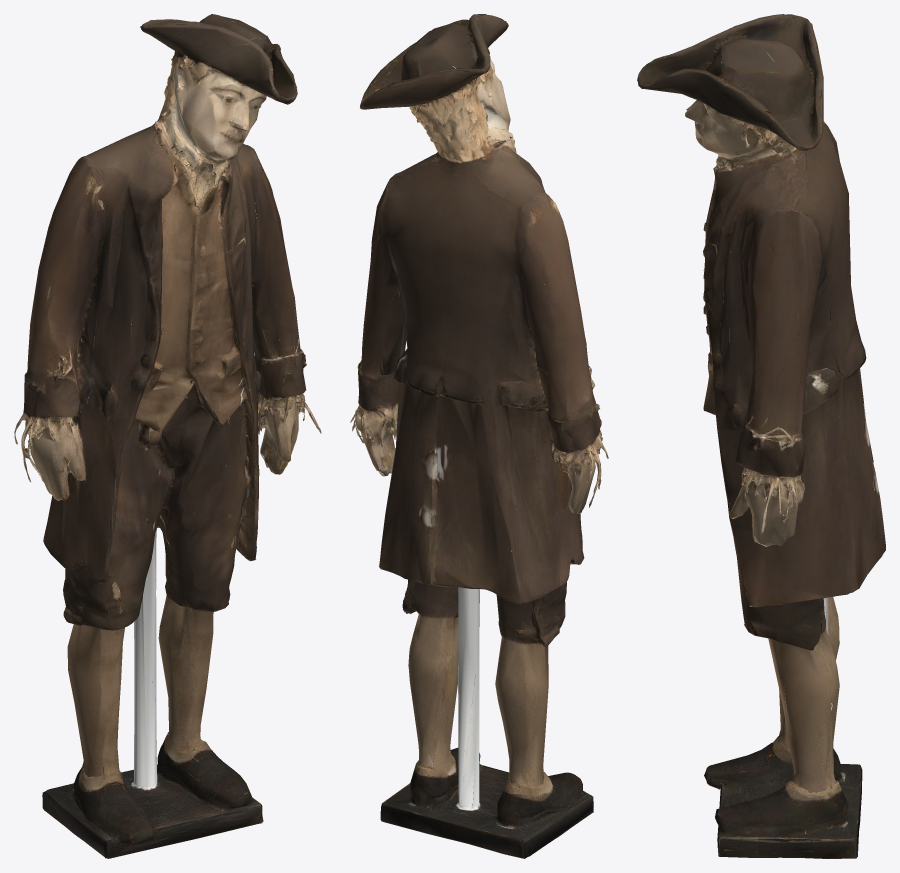
Rendered from effigy-oliver.glb.
The picture shows the model from 3 angles, left to right: view 1: azimuth 30°, elevation 25°; view 2: azimuth 150°, elevation 25°; view 3: azimuth 270°, elevation 25°; orthographic projection. The views are drawn at different scales.
Visible parts, largest first — view 1: effigy-oliver_mesh; view 2: effigy-oliver_mesh; view 3: effigy-oliver_mesh.
Part boxes in pixels (x1,y1,x2,y2): effigy-oliver_mesh: [14, 14, 321, 858]; effigy-oliver_mesh: [350, 14, 608, 858]; effigy-oliver_mesh: [637, 14, 885, 858].
Size of the model in its own units: 0.6955 by 1.9 by 0.526.
Materials: 1 (1 with a texture image).
